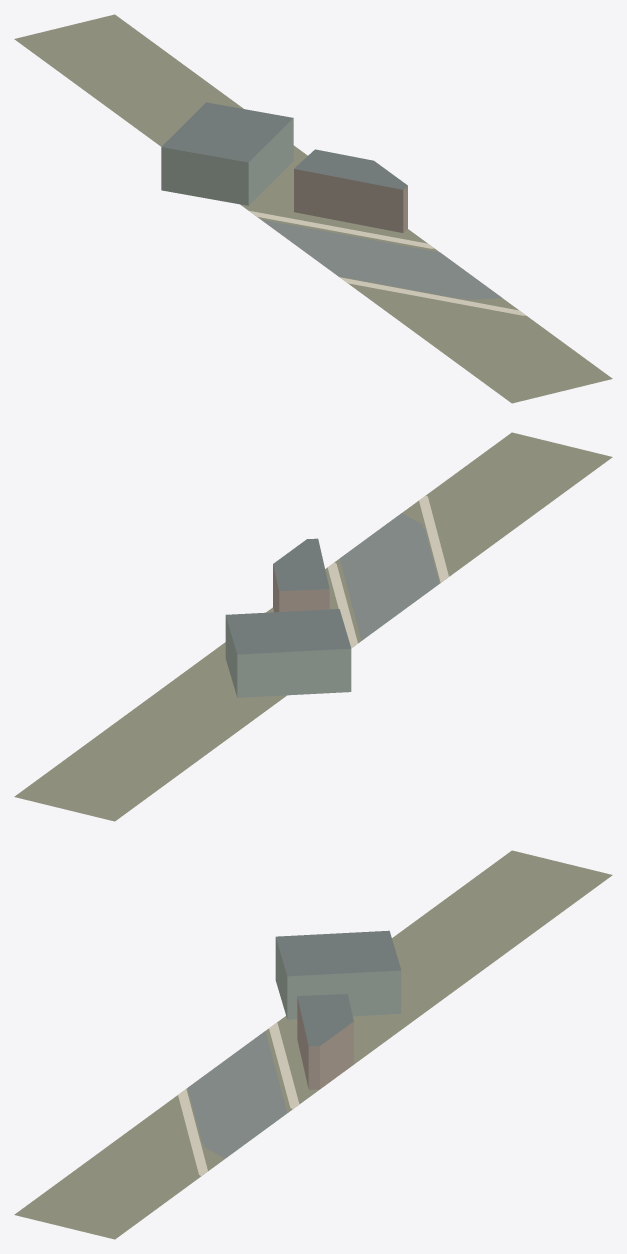
The model's file is sector-3_-7.glb.
3 views of the same model, one above another, from view 1: azimuth 30°, elevation 25°; view 2: azimuth 150°, elevation 25°; view 3: azimuth 330°, elevation 25° (orthographic).
Parts seen in each view (by area): view 1: 3:-7-ground, 3:-7-facade, 3:-7-road, 3:-7-roof, 3:-7-paving; view 2: 3:-7-ground, 3:-7-road, 3:-7-facade, 3:-7-roof, 3:-7-paving; view 3: 3:-7-ground, 3:-7-road, 3:-7-facade, 3:-7-roof, 3:-7-paving.
Boxes of the visible parts, bbox=[...] form: 3:-7-ground: bbox=[14, 14, 612, 403]; 3:-7-facade: bbox=[161, 118, 407, 232]; 3:-7-road: bbox=[261, 219, 501, 299]; 3:-7-roof: bbox=[161, 102, 407, 189]; 3:-7-paving: bbox=[249, 210, 525, 315]; 3:-7-ground: bbox=[14, 432, 612, 821]; 3:-7-road: bbox=[339, 513, 439, 640]; 3:-7-facade: bbox=[225, 565, 351, 697]; 3:-7-roof: bbox=[225, 538, 351, 654]; 3:-7-paving: bbox=[327, 495, 448, 647]; 3:-7-ground: bbox=[14, 850, 612, 1239]; 3:-7-road: bbox=[187, 1031, 287, 1158]; 3:-7-facade: bbox=[275, 938, 401, 1089]; 3:-7-roof: bbox=[275, 930, 401, 1046]; 3:-7-paving: bbox=[178, 1022, 299, 1175].
Size of the model in its own units: 33.77 by 9.6 by 200.
